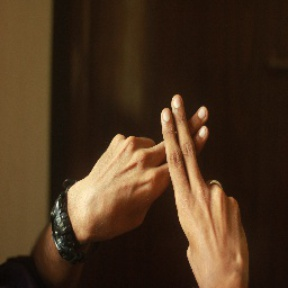F: (141, 90, 230, 208)
